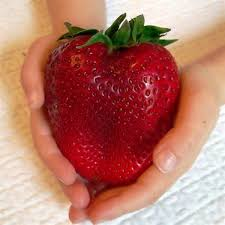Fresa: (40, 24, 185, 192)
